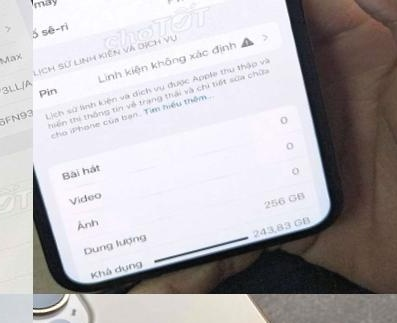screen_defect: (0, 316, 33, 323)
